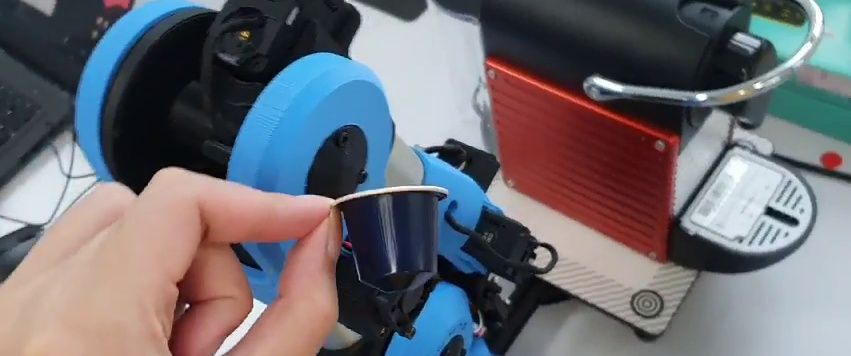capsule_1: (331, 183, 450, 295)
